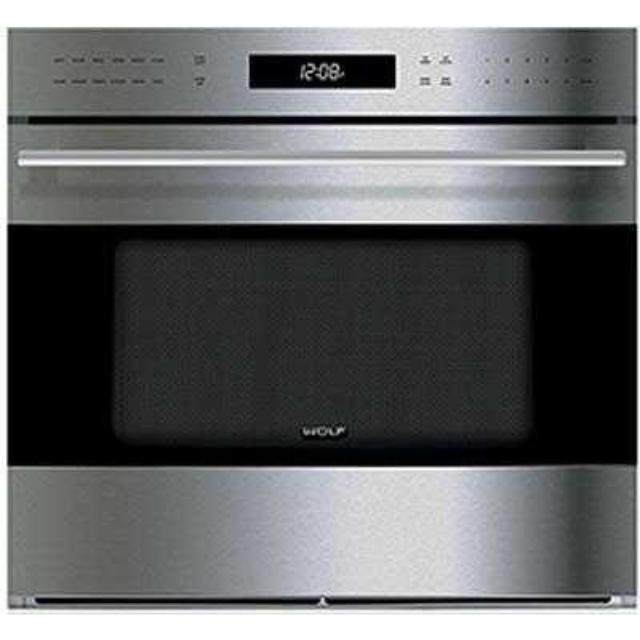Oven: (8, 16, 640, 624)
